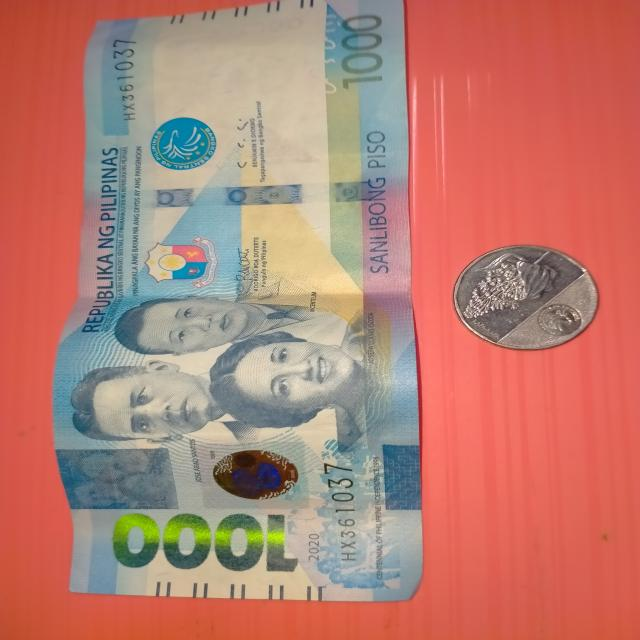concealed_value: (52, 447, 178, 512)
optically_variable_device: (193, 442, 313, 511)
see_through_mark: (304, 6, 345, 108)
